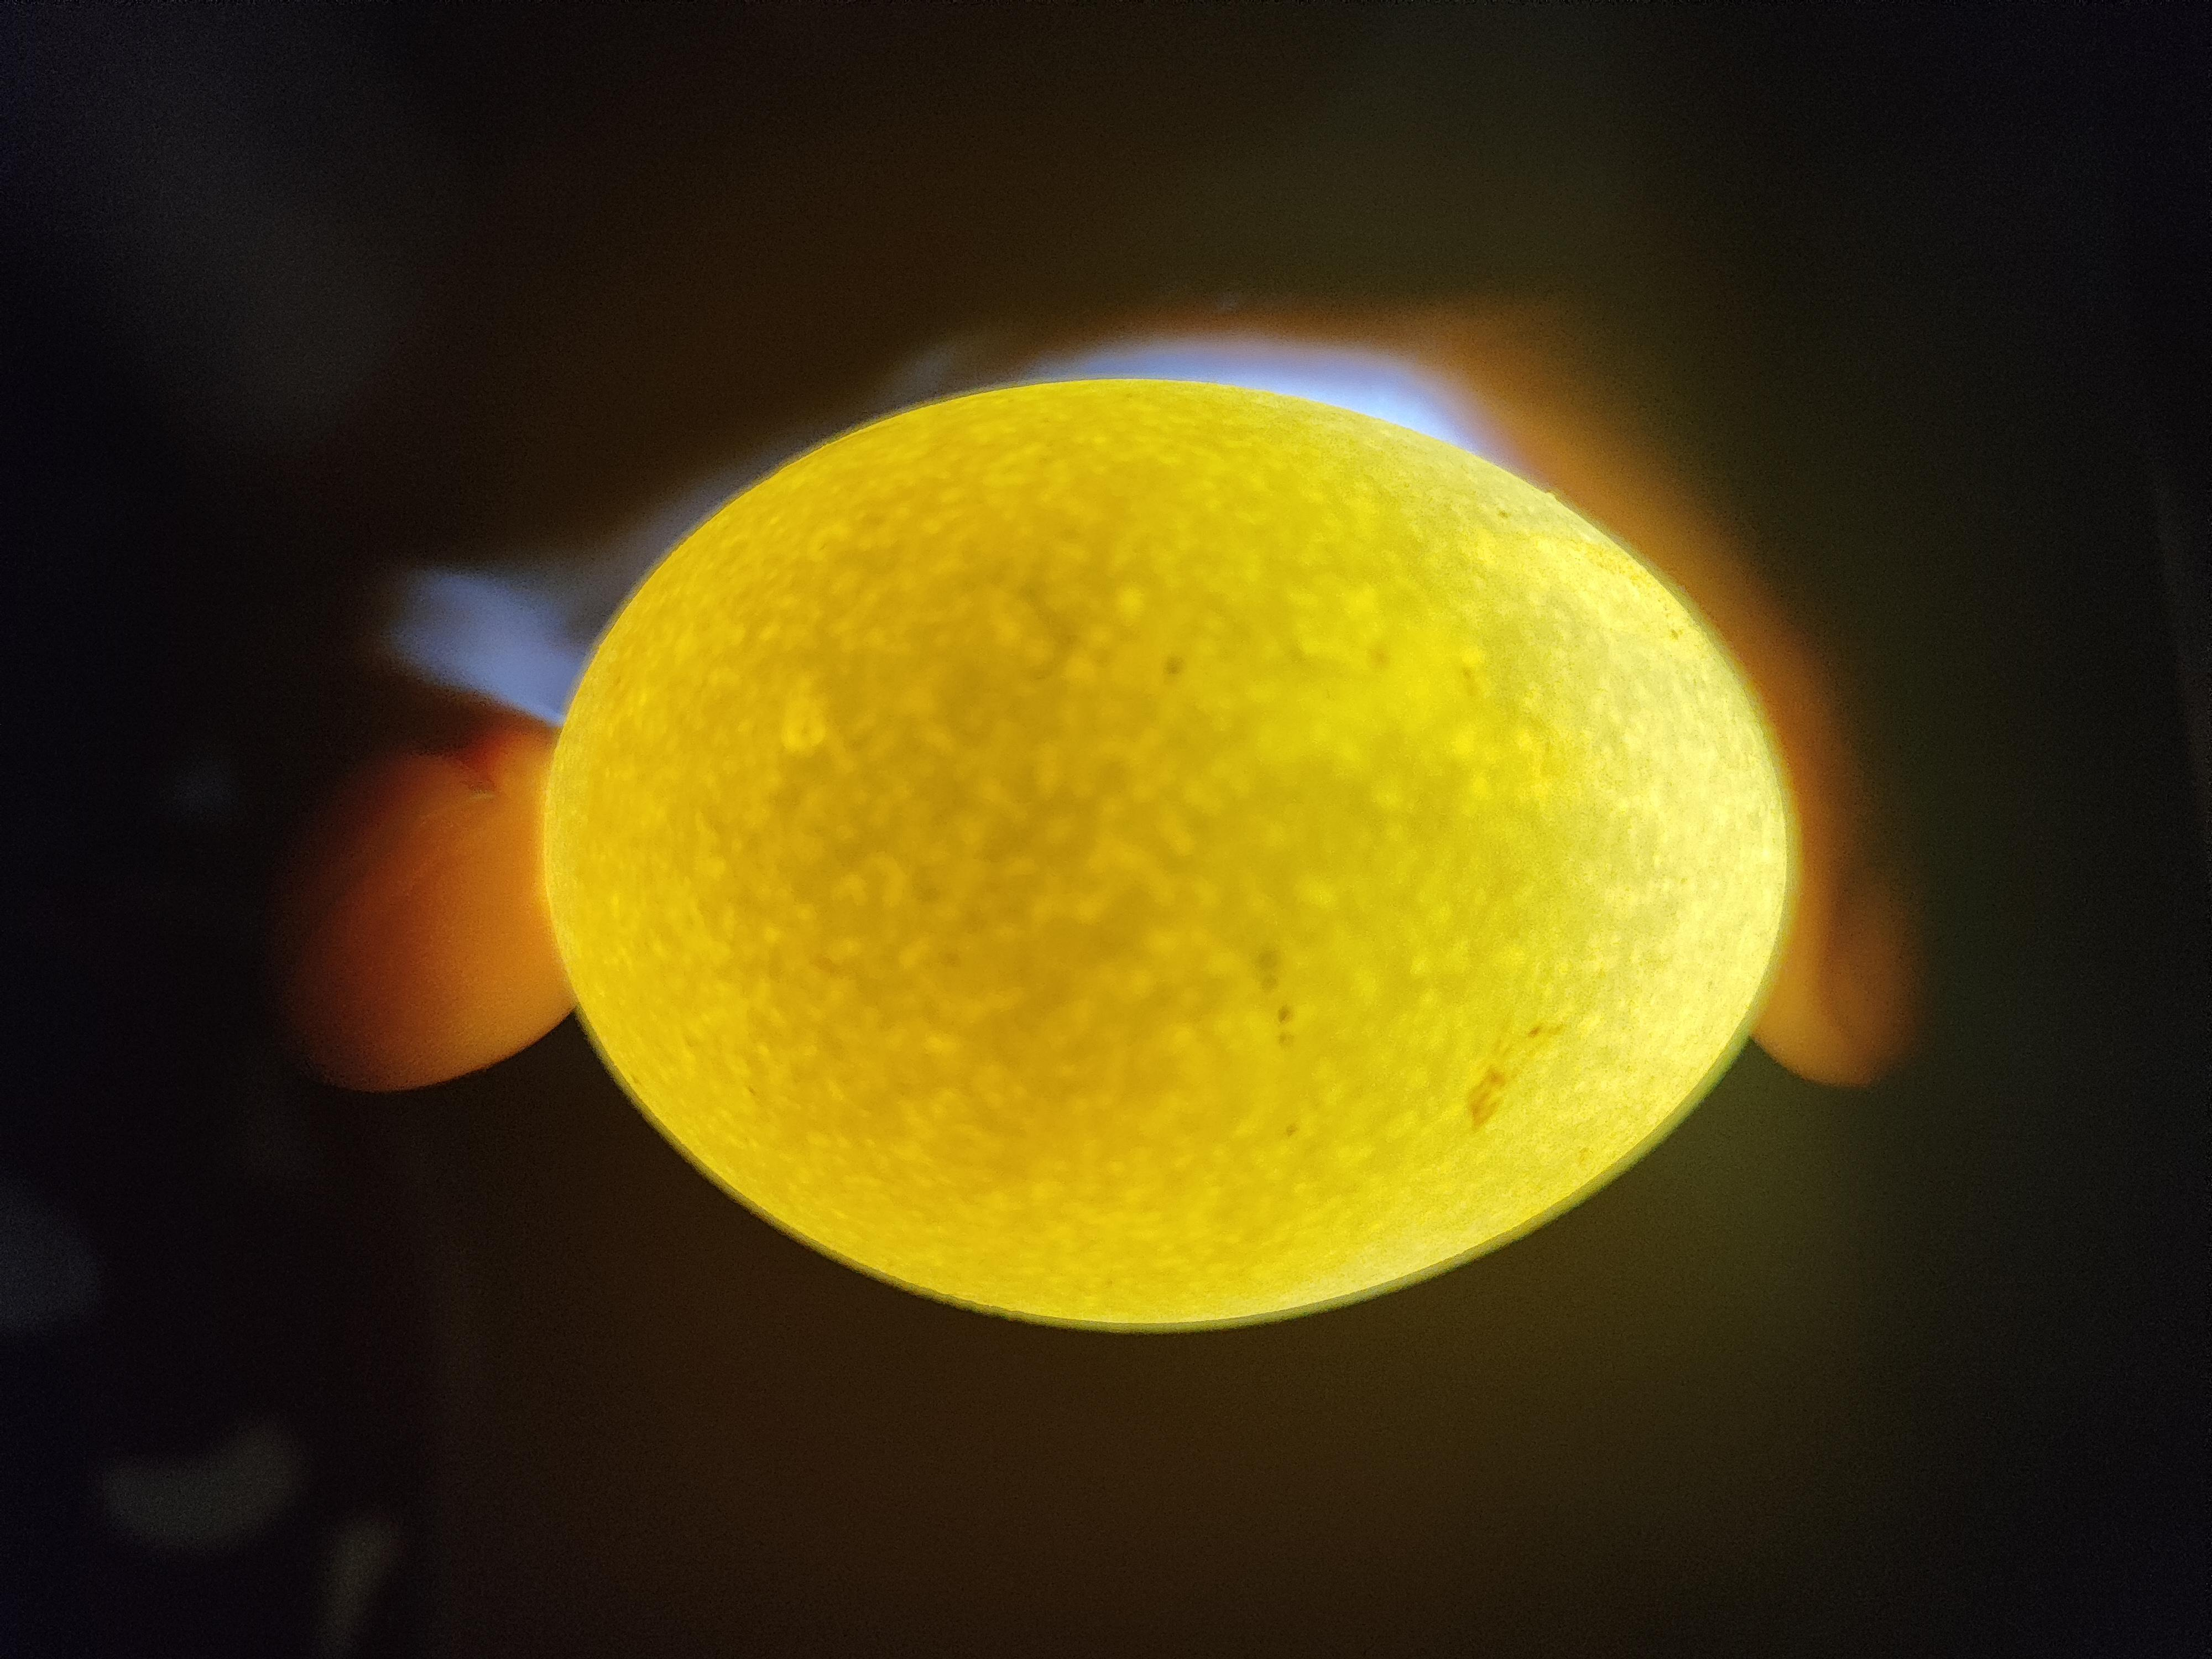AA - Premium: (517, 371, 1808, 1338)
